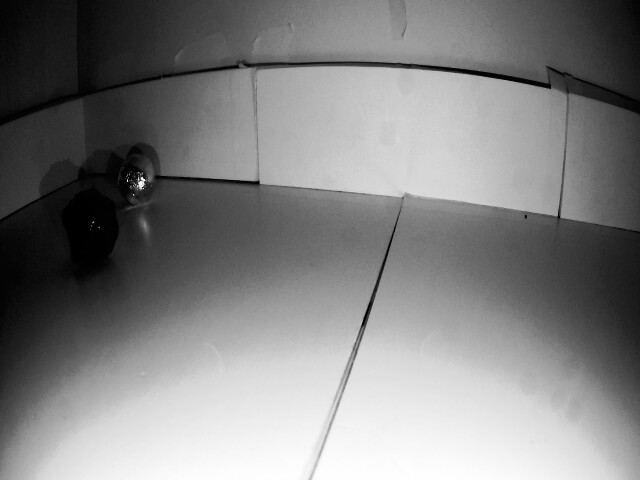black: (115, 157, 157, 201)
silver: (61, 192, 121, 257)
